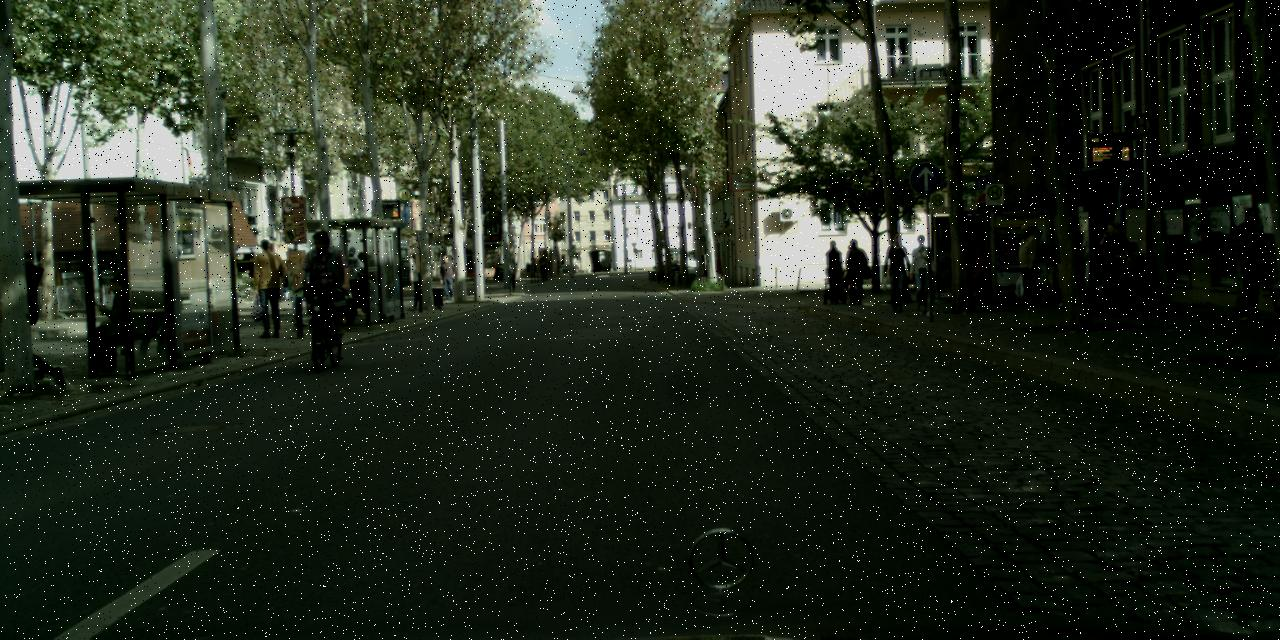ped: (301, 230, 347, 343), (1228, 208, 1274, 320), (248, 238, 288, 337), (1093, 221, 1131, 315), (824, 239, 872, 305), (1009, 224, 1042, 306), (905, 233, 937, 314), (880, 231, 912, 311), (406, 253, 429, 308), (438, 254, 457, 300)
